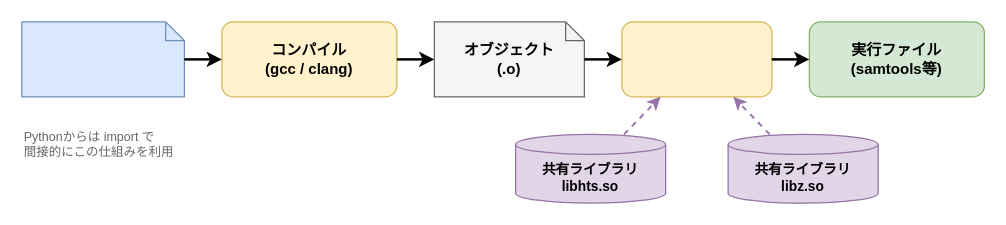
The diagram is 1006 pixels wide and 225 high, and some of its shapes have lost their labels. The centre of each missing label's shape, as x and y in pixels:
"ソースコード (.c / .cpp)" belongs at [102,59].
"リンク (ld)" belongs at [696,59].
